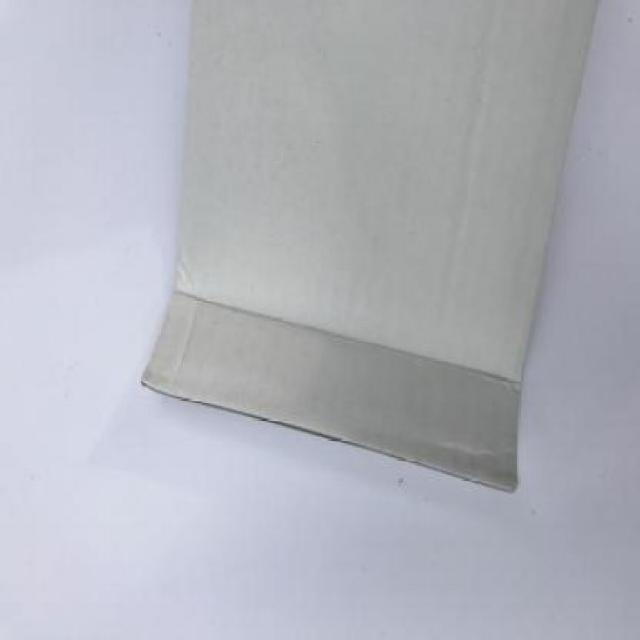box: (139, 1, 599, 494)
